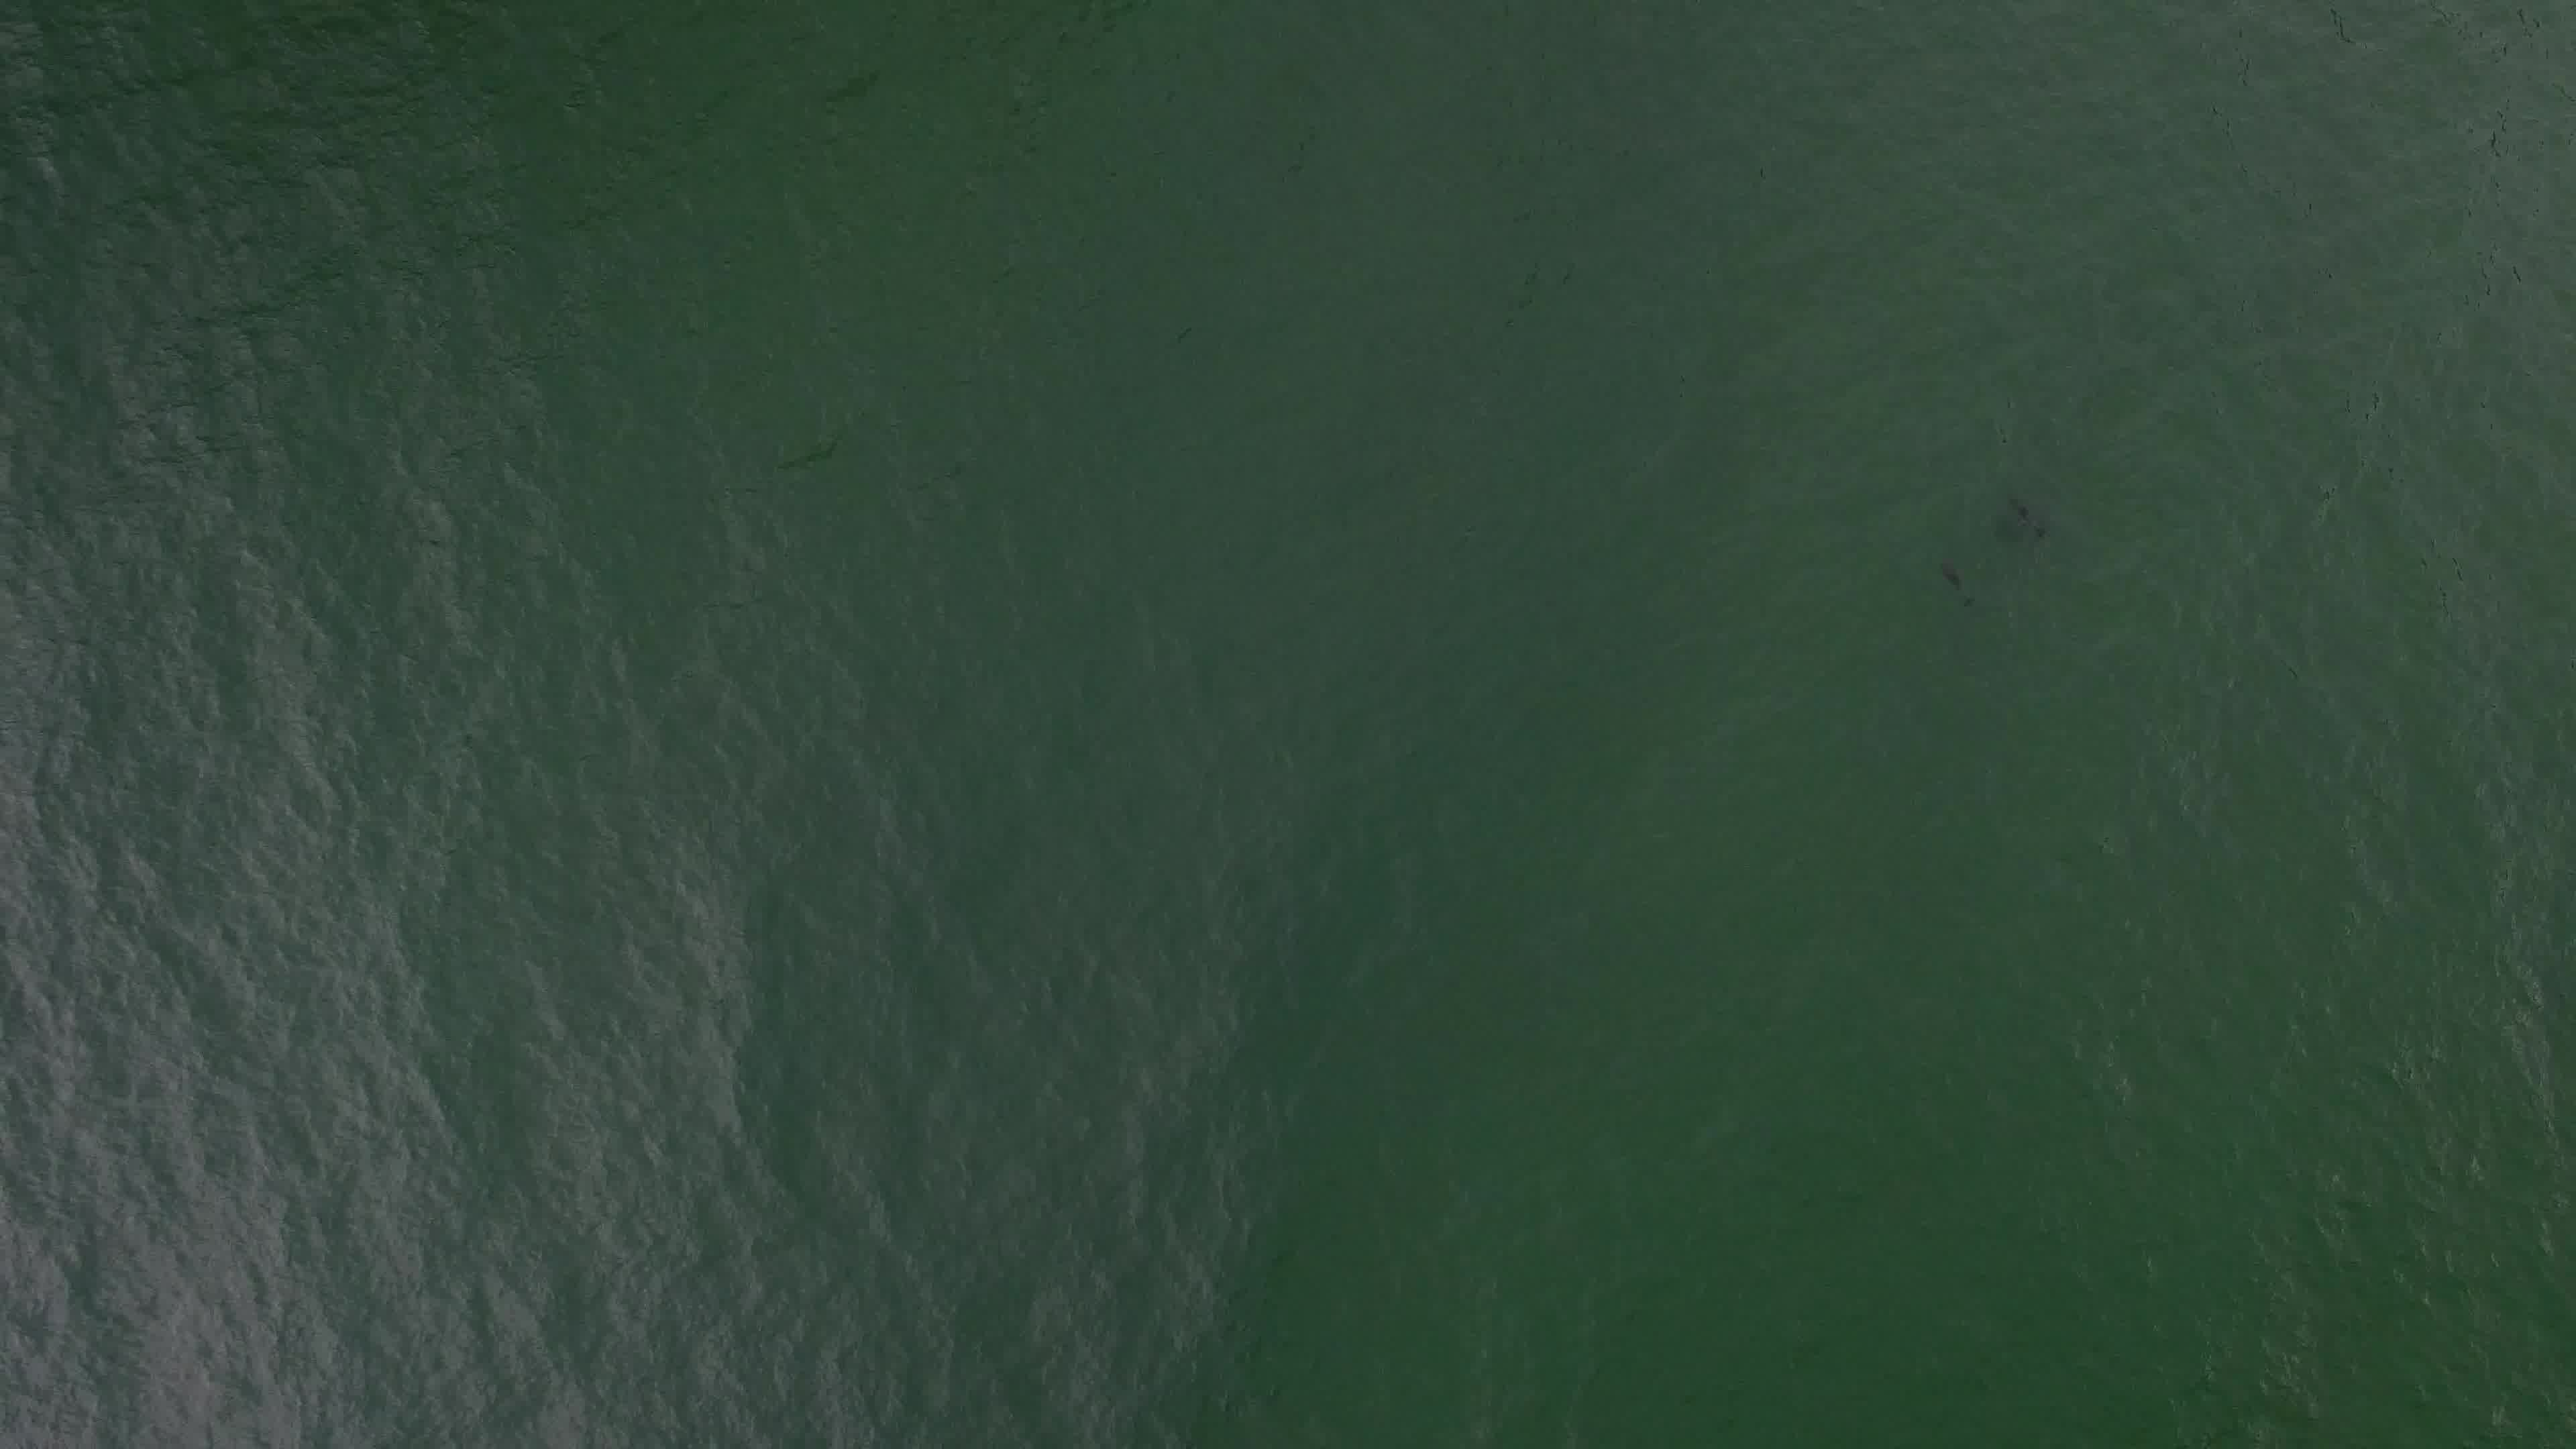dolphin: (1914, 533, 1996, 623), (1983, 471, 2063, 561)
